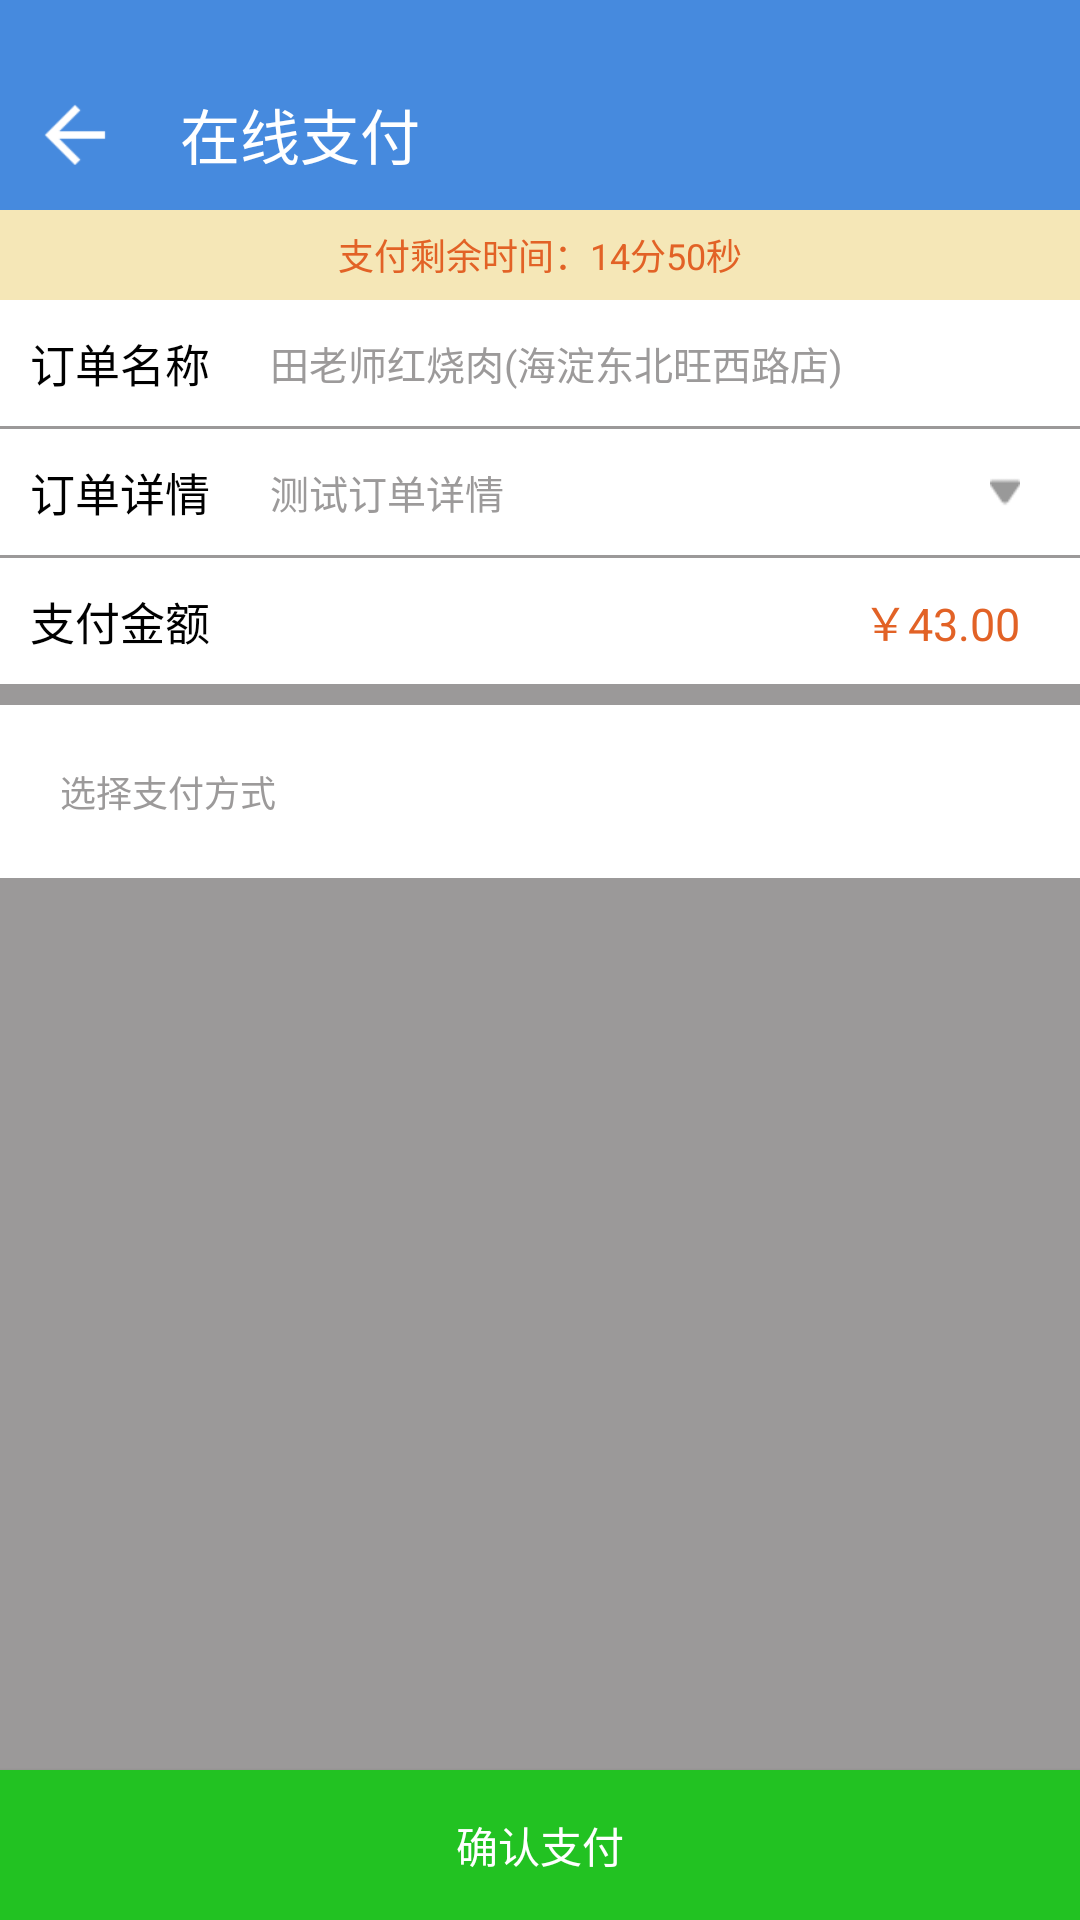

Icon click points for this 1080px x 1920px phone screenshot, format point (x, y):
ab back: point (75, 135)
triangle down: point (1005, 491)
